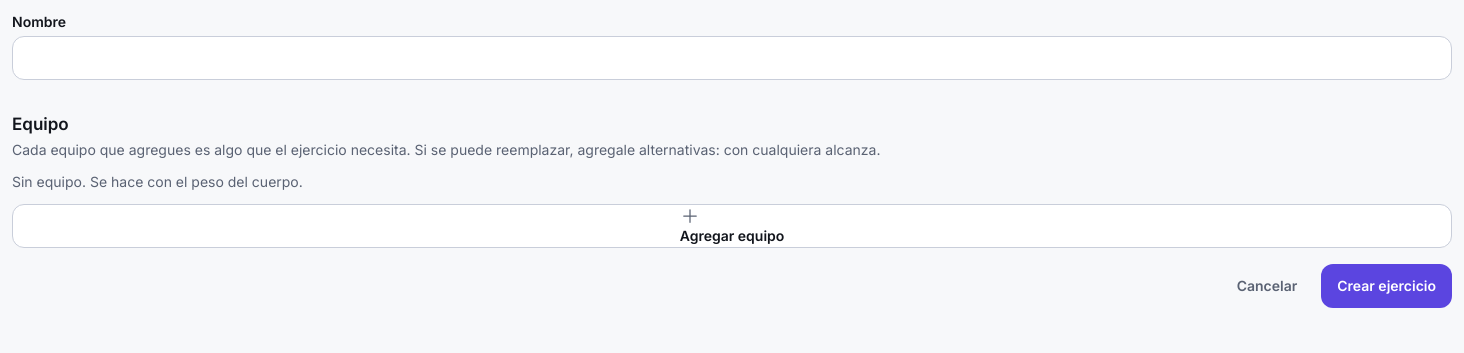
Test: ExerciseForm › valida nombre vacío antes de enviar (feedback temprano, RN-006/RN-005 vía Zod)
The width and height of the screenshot is (1464, 353).
Click the button "Crear ejercicio".
click(1387, 286)  # box [1321,264,1452,308]
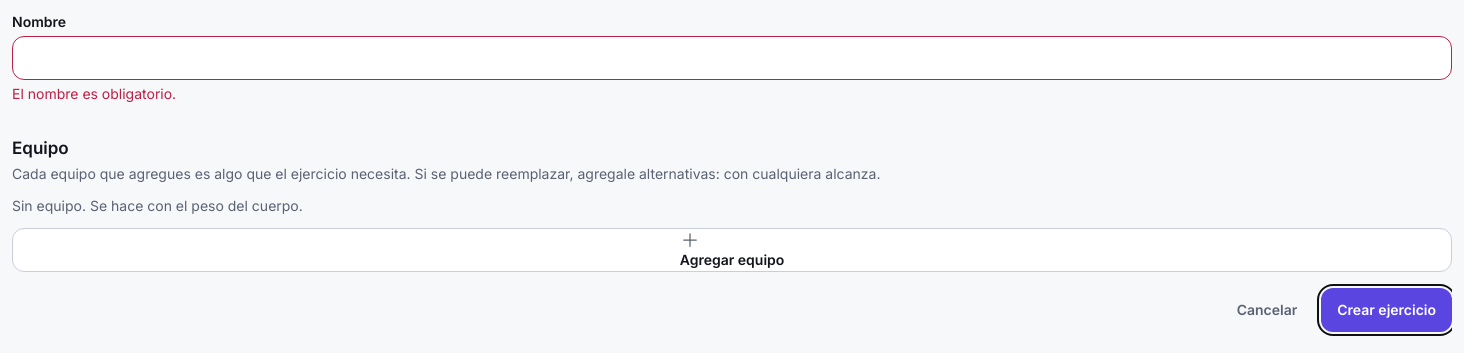
Check: the text "El nombre es obligatorio." is shown, box [12,85,176,102]
